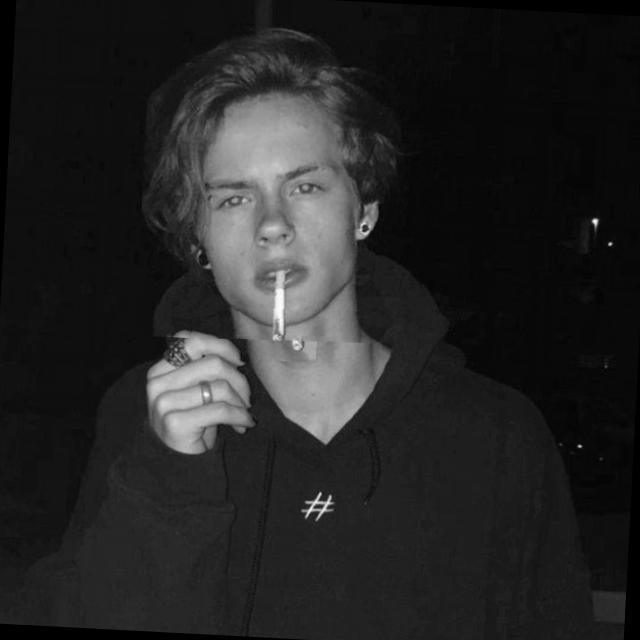cigarette: (265, 260, 321, 363)
